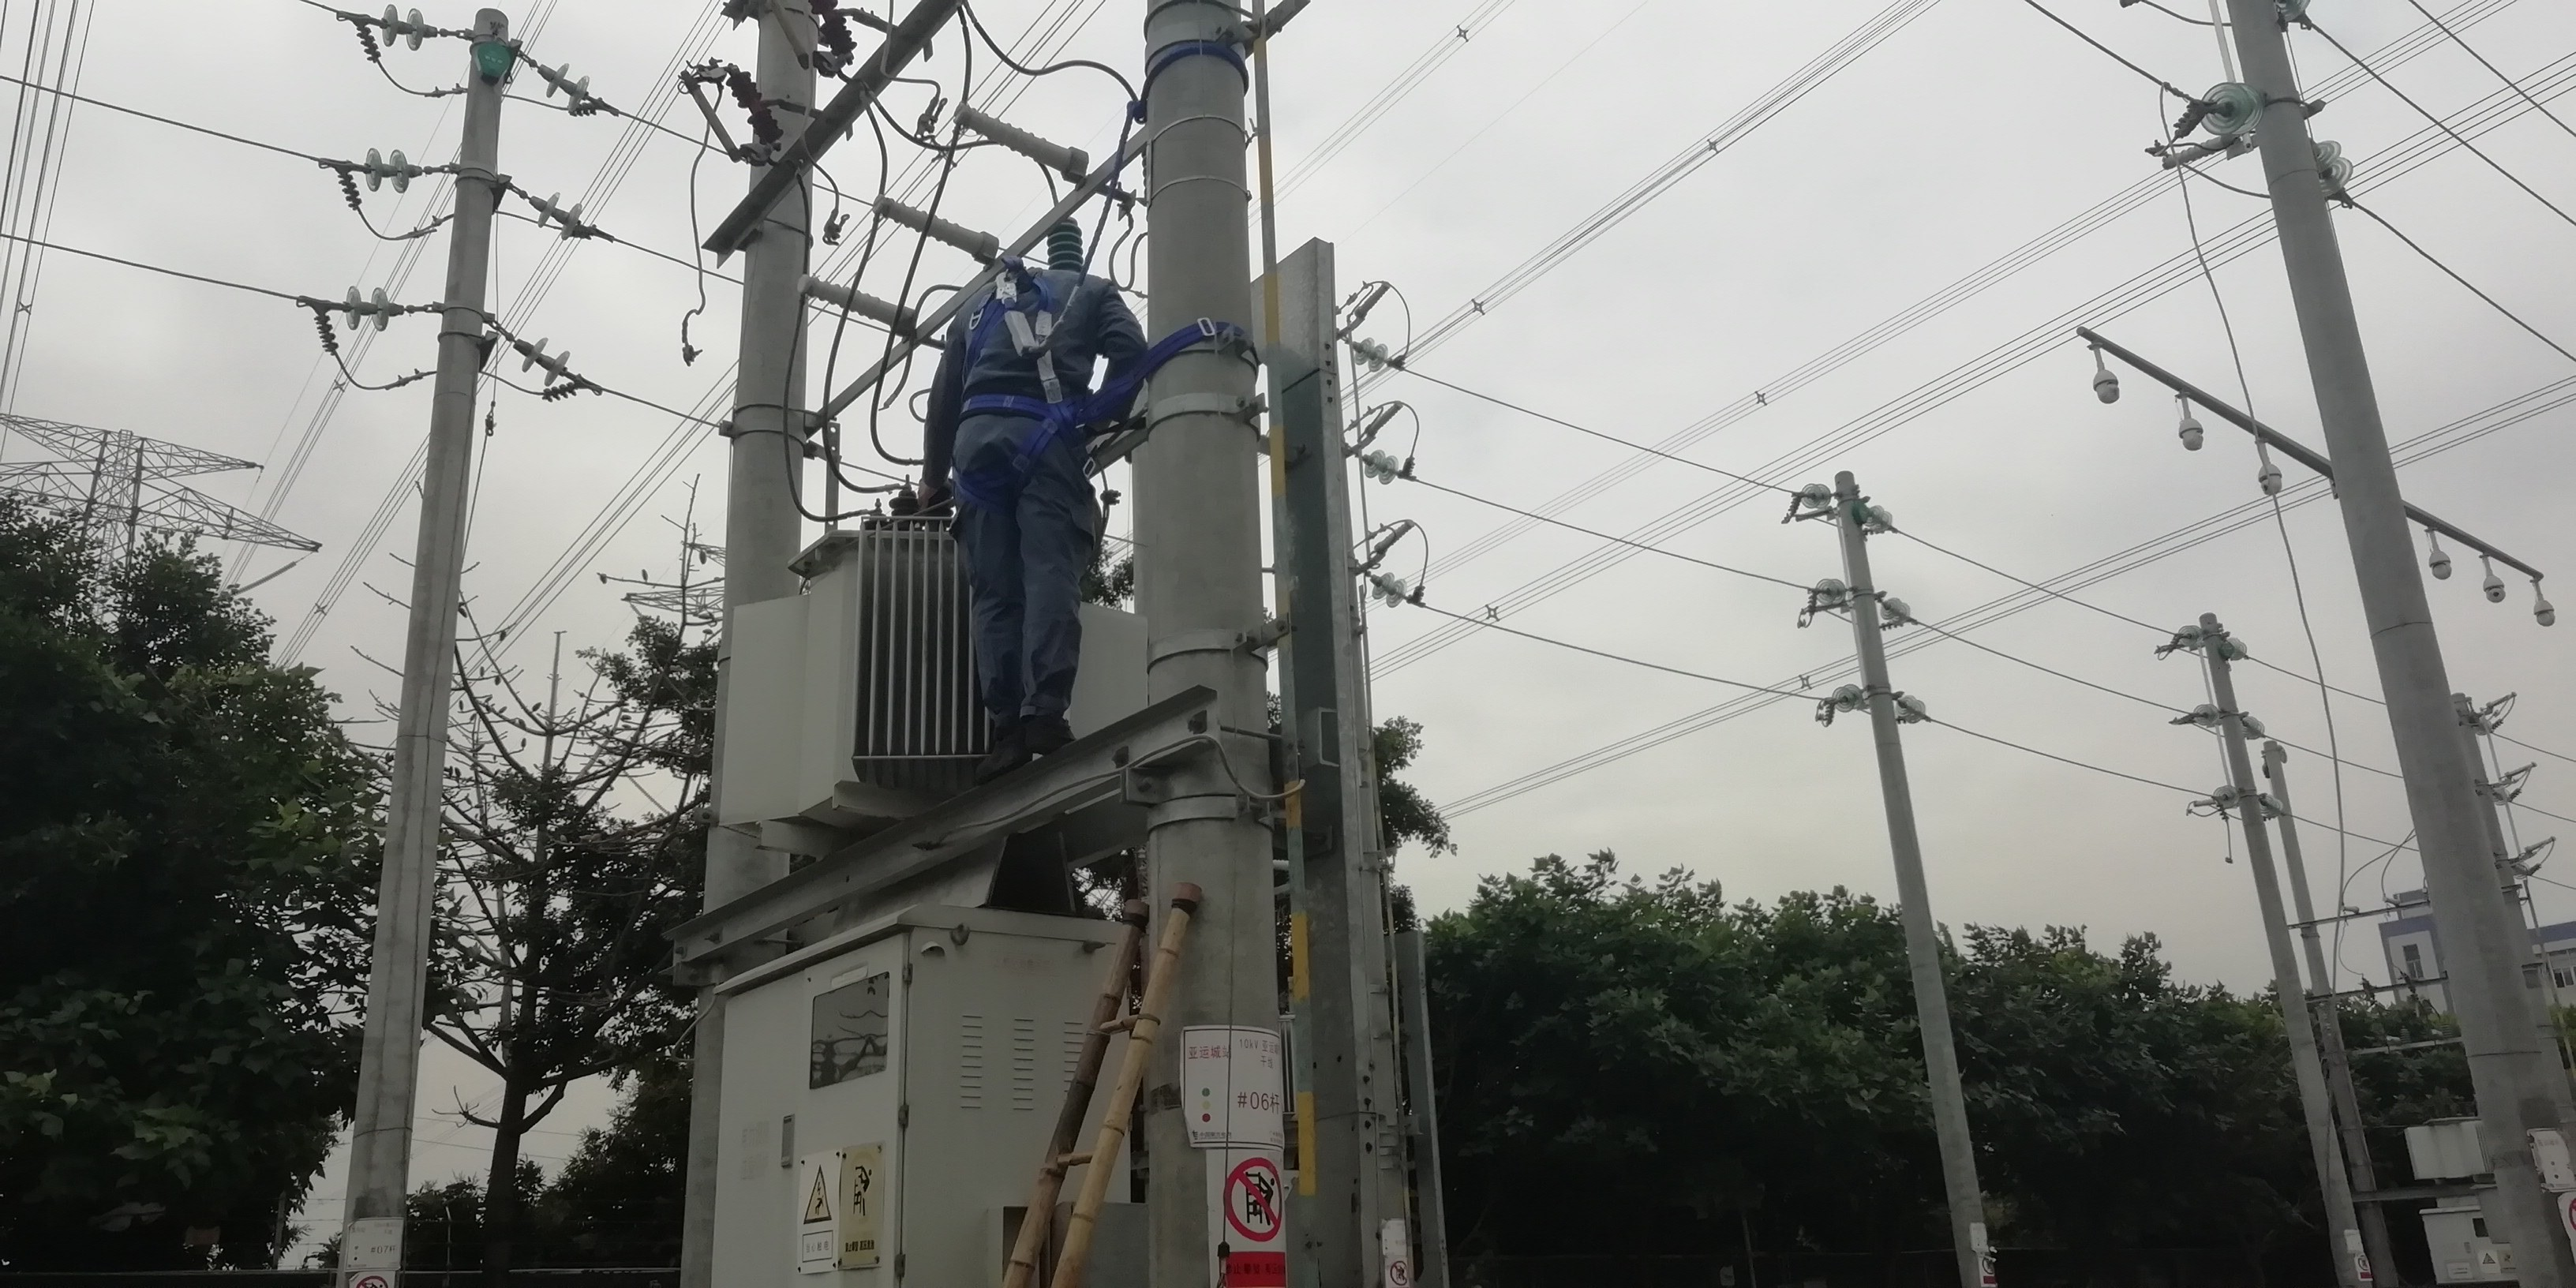downsuit: (956, 444, 1092, 721)
upsuit: (959, 281, 1112, 417)
